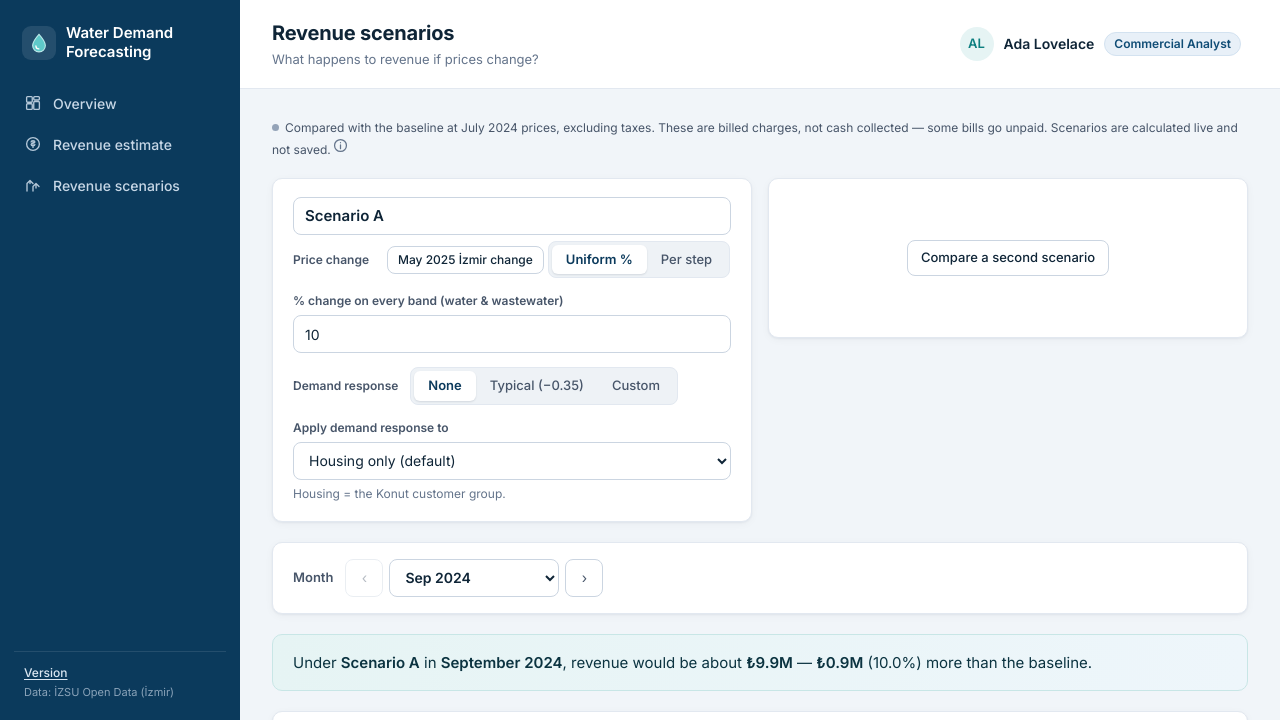
Test: per-step band rows show the real band ranges from tariffs_in_use, not "Band 1"
Check: the dropdown labelled "Month" is shown, box [389,559,559,597]
Click the radio button "Per step" at (686, 260), box [647,245,726,274]
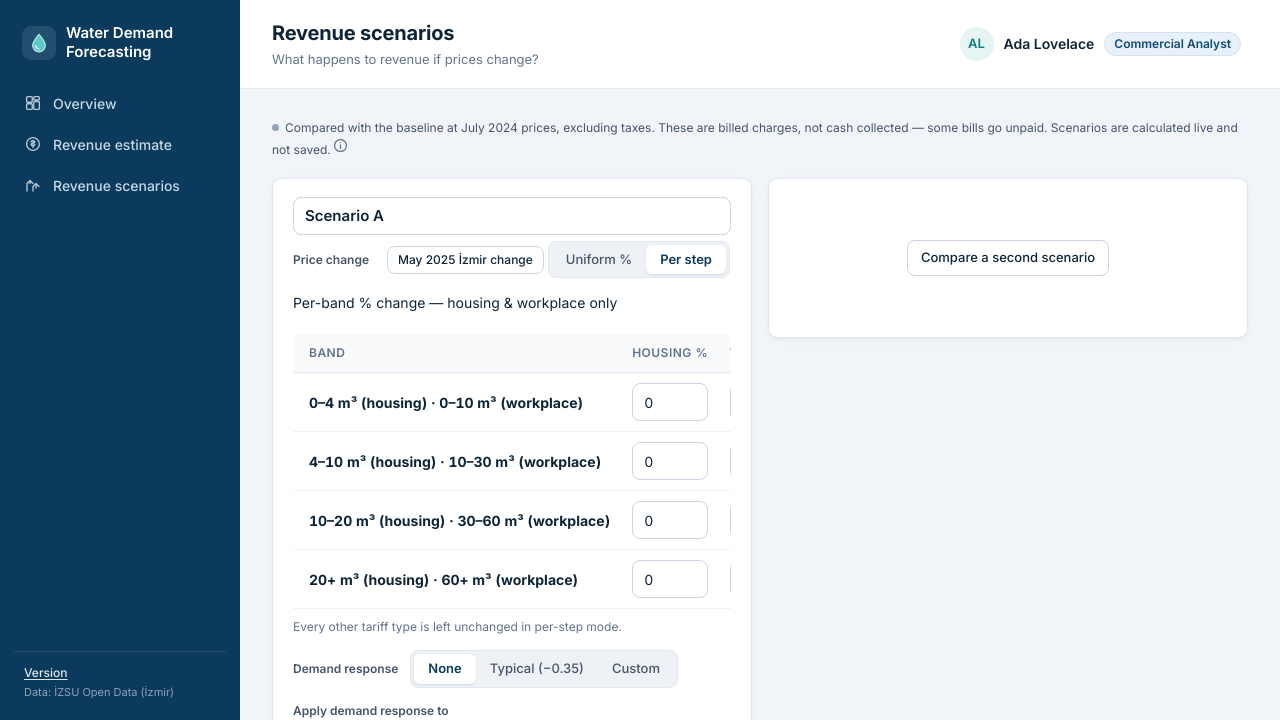
Check: the column heading "0–4 m³ (housing) · 0–10 m³ (workplace)" is shown, box [293,373,621,432]
Check: the column heading "20+ m³ (housing) · 60+ m³ (workplace)" is shown, box [293,550,621,609]
